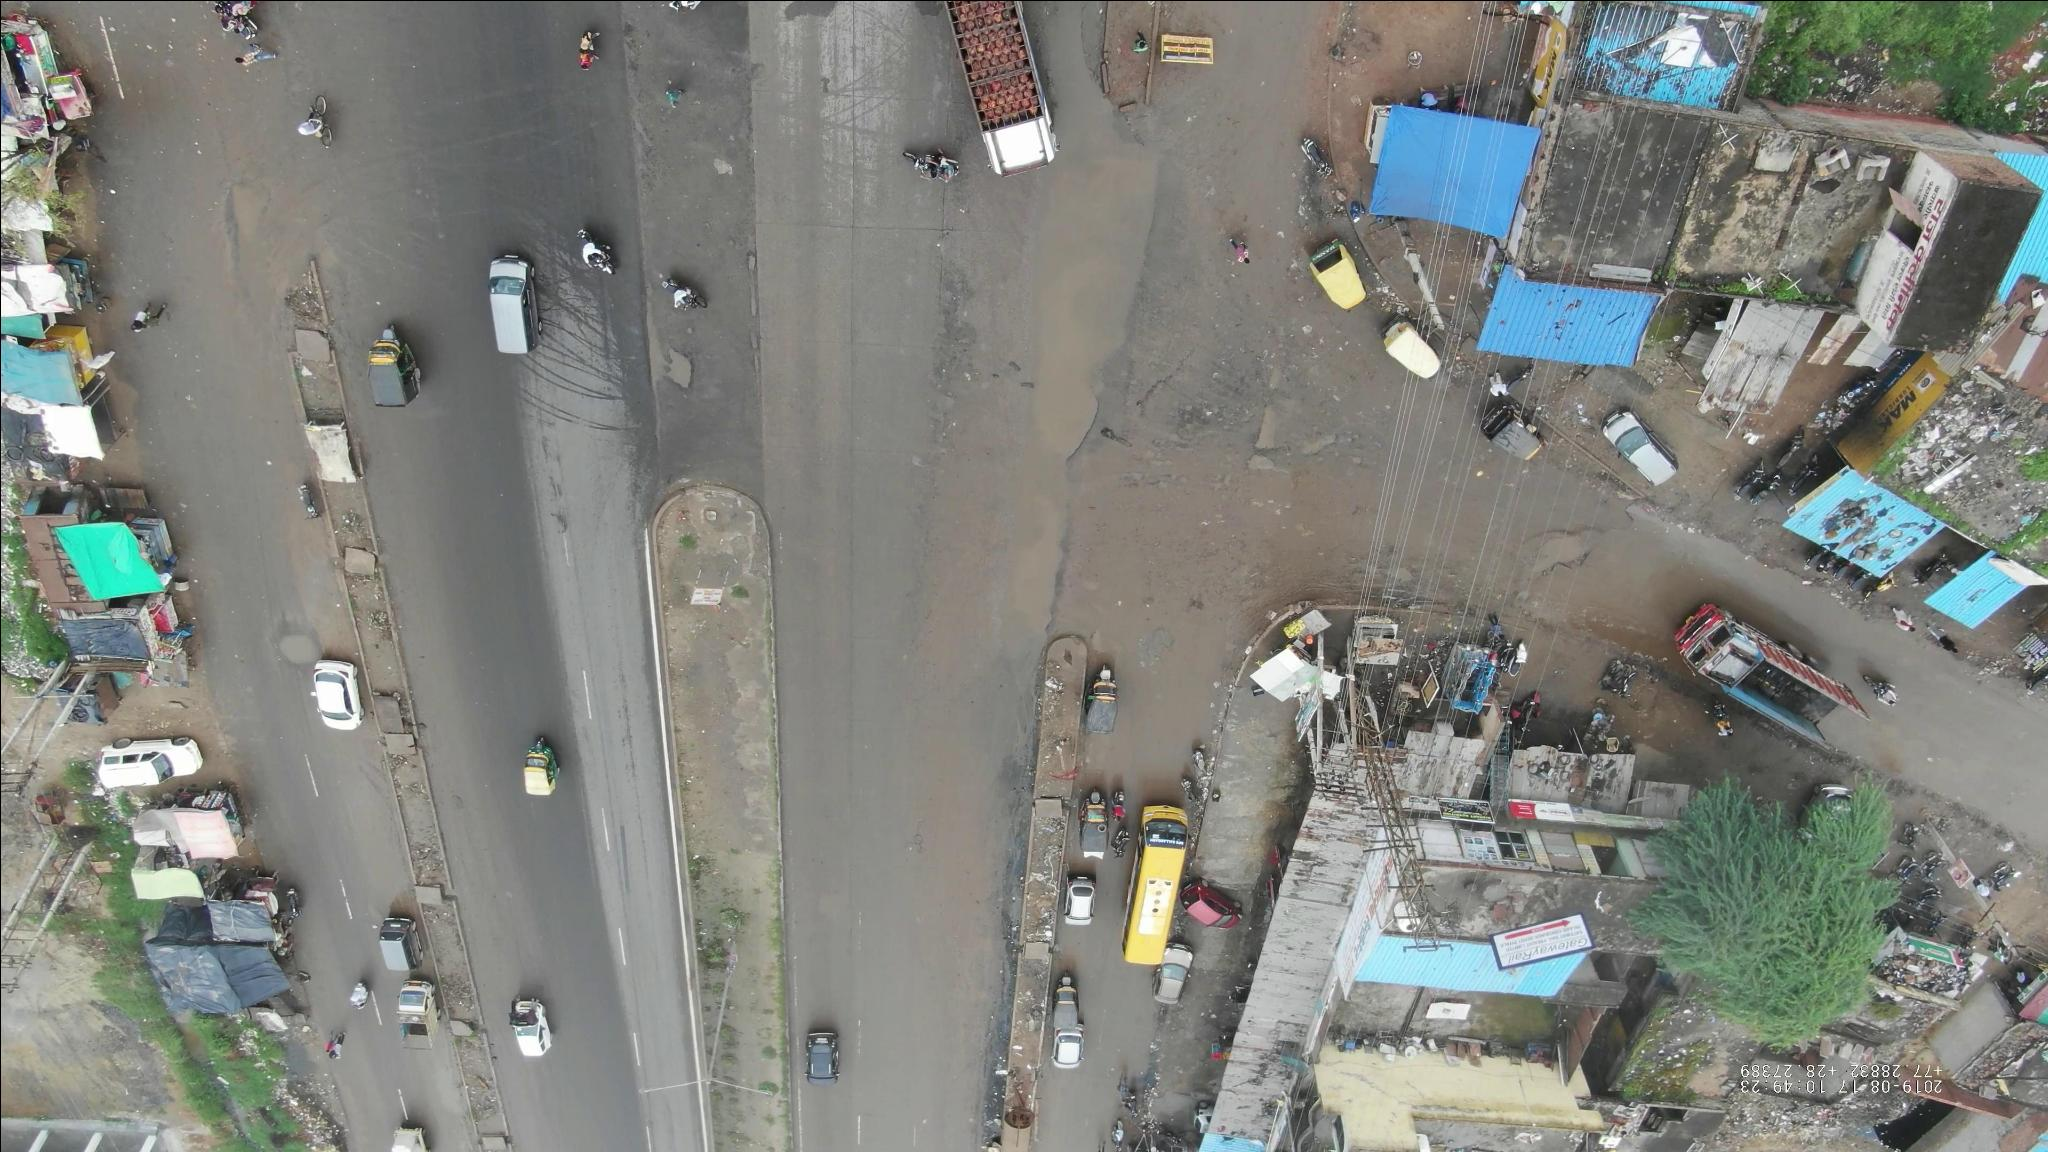Potholes: (214, 167, 283, 350), (1129, 353, 1222, 454), (1508, 526, 1602, 594)
